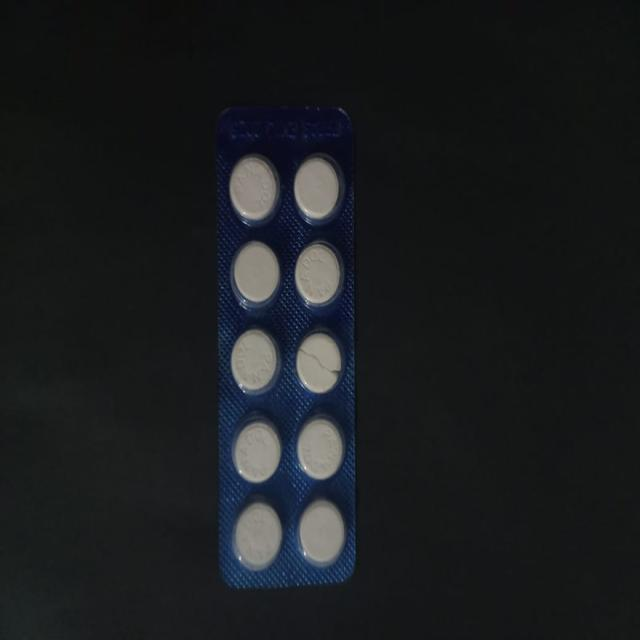defect: (295, 327, 347, 398)
